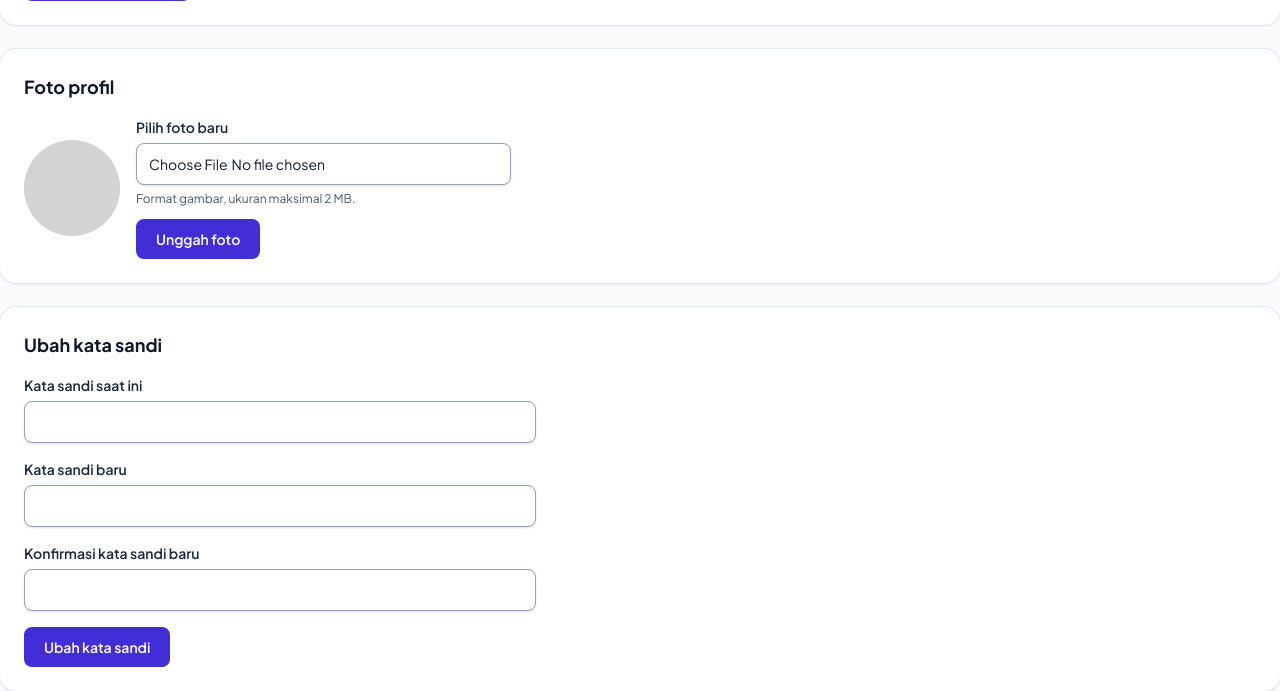
Test: ProfilePage › PasswordSection › should show error when confirm password does not match
(page scrolled)
Type "oldsecret" into the password field labelled "Kata sandi saat ini".
click(280, 422); type("oldsecret")  # box x1=24 y1=401 x2=536 y2=443
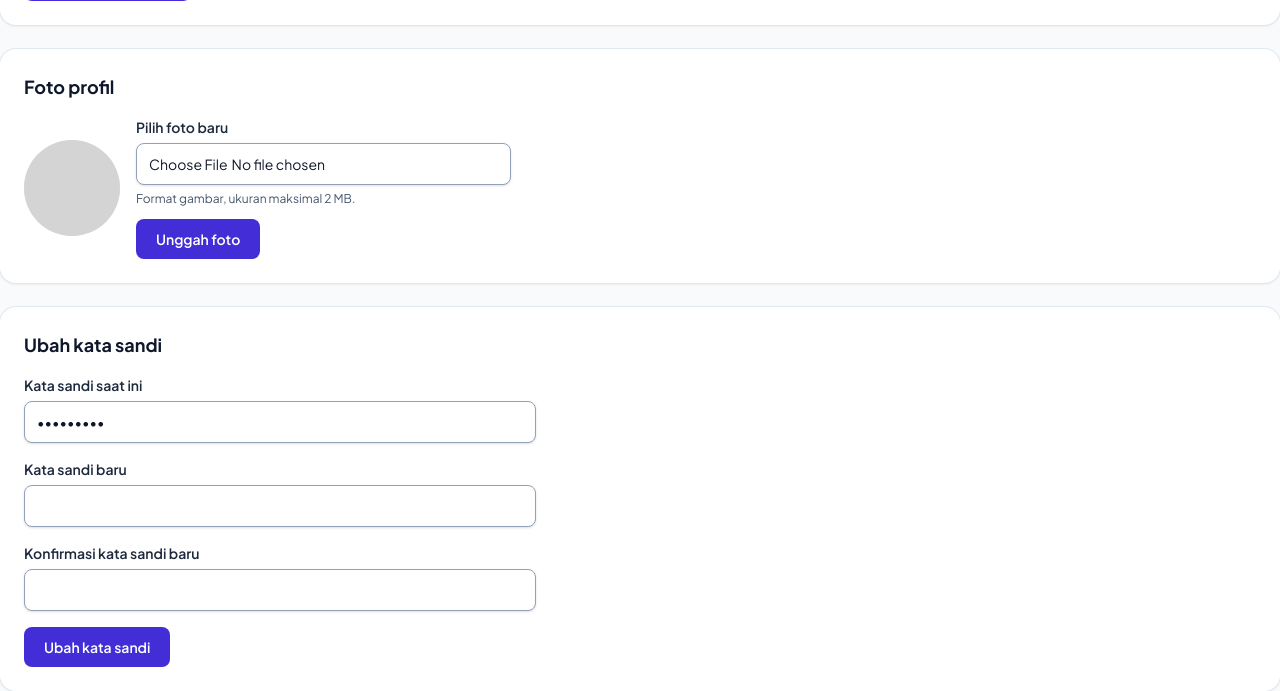
Type "newsecret" into the password field labelled "Kata sandi baru".
click(280, 506); type("newsecret")  # box x1=24 y1=485 x2=536 y2=527
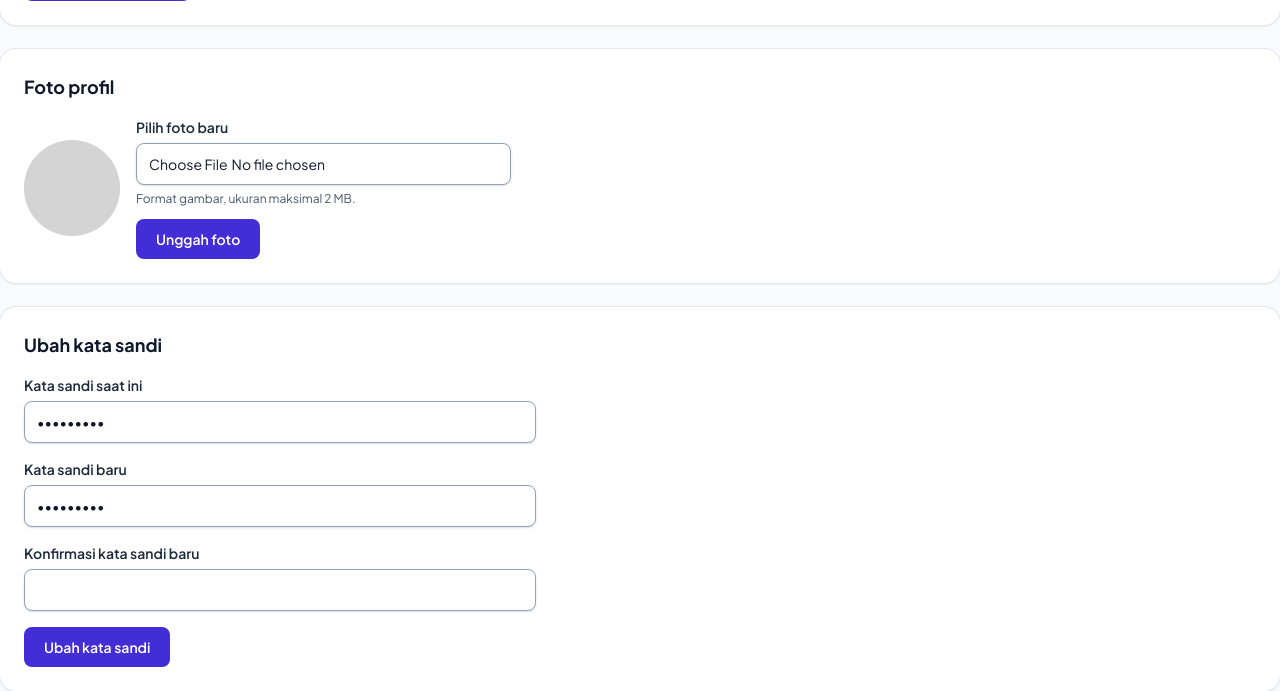
Type "mismatch" into the password field labelled "Konfirmasi kata sandi baru".
click(280, 590); type("mismatch")  # box x1=24 y1=569 x2=536 y2=611
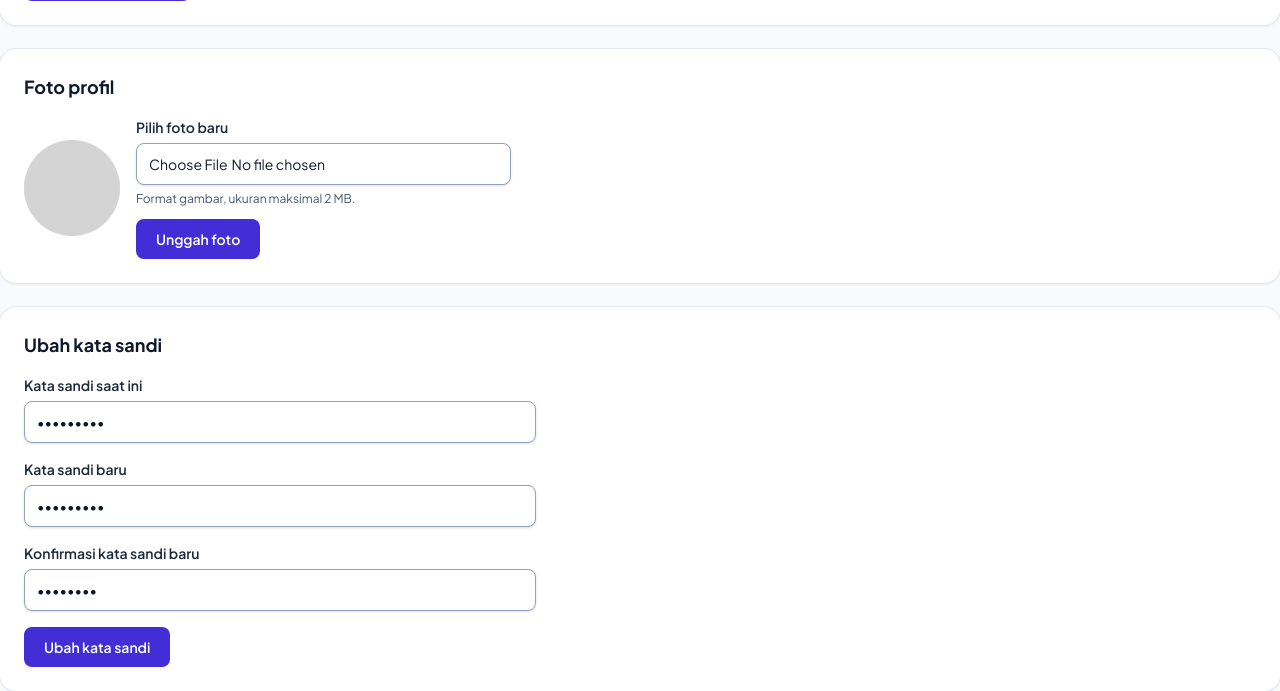
Click the button "Ubah kata sandi".
click(97, 647)  # box x1=24 y1=627 x2=170 y2=667
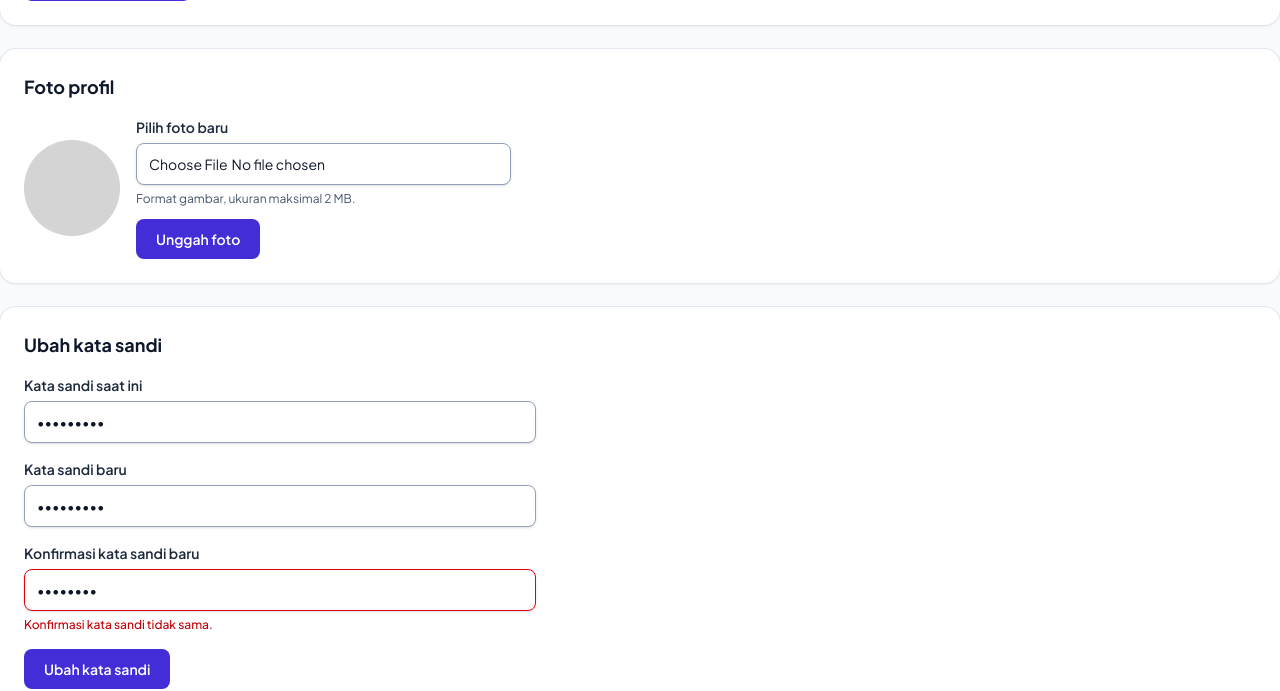
expect the text "Konfirmasi kata sandi tidak sama." is shown: met, box x1=24 y1=617 x2=213 y2=632
